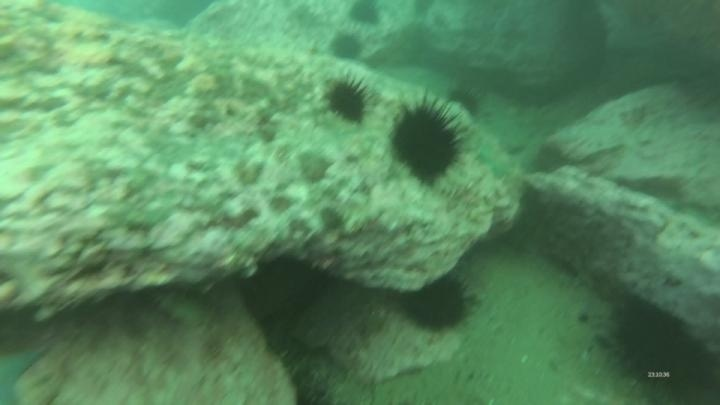echinus: (602, 296, 716, 402), (386, 94, 467, 189), (240, 247, 330, 329), (398, 271, 478, 338), (323, 74, 373, 126), (445, 83, 486, 122), (328, 30, 365, 64), (345, 0, 384, 29)
starfish: (0, 343, 48, 405), (473, 136, 518, 182)
